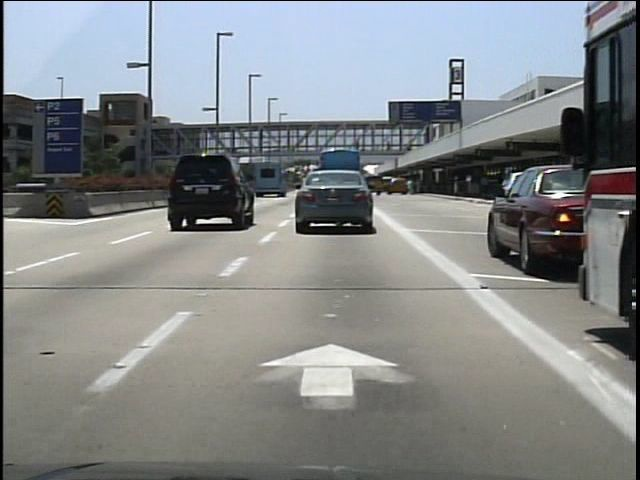person: (401, 176, 416, 200), (383, 136, 396, 158), (350, 136, 363, 156)
